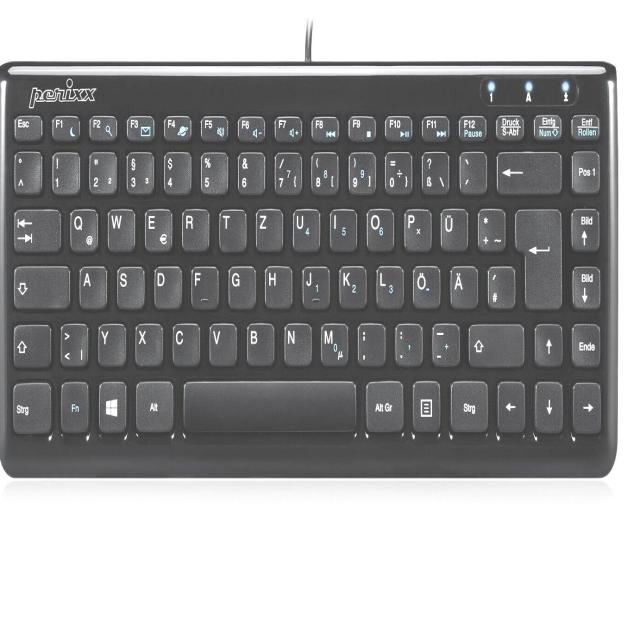0: (382, 148, 412, 194)
1: (50, 149, 80, 195)
2: (86, 148, 117, 194)
3: (123, 148, 154, 194)
4: (161, 149, 191, 194)
5: (198, 149, 227, 195)
6: (235, 149, 265, 194)
7: (272, 149, 302, 195)
8: (308, 149, 338, 195)
9: (346, 149, 376, 195)
a: (77, 262, 107, 308)
accent: (456, 147, 486, 193)
ae: (448, 262, 478, 308)
alt-left: (133, 377, 174, 432)
altgr-right: (362, 376, 403, 431)
b: (243, 319, 274, 365)
c: (170, 319, 200, 366)
caret: (12, 147, 41, 194)
comma: (355, 319, 385, 365)
d: (152, 262, 181, 308)
del: (494, 147, 562, 194)
e: (142, 205, 172, 252)
enter: (512, 204, 562, 309)
f: (188, 263, 218, 309)
g: (225, 262, 255, 308)
h: (262, 263, 292, 308)
hash: (485, 262, 515, 308)
i: (327, 206, 357, 251)
j: (299, 261, 329, 309)
k: (337, 261, 366, 308)
keyboard: (0, 54, 618, 479)
l: (374, 262, 403, 308)
less: (58, 319, 88, 368)
m: (318, 319, 347, 365)
minus: (429, 319, 459, 365)
n: (281, 320, 311, 365)
o: (363, 205, 394, 251)
oe: (409, 261, 440, 308)
p: (401, 205, 431, 251)
plus: (475, 204, 504, 252)
point: (392, 319, 422, 365)
q: (67, 205, 98, 253)
r: (179, 205, 209, 251)
s: (114, 262, 144, 309)
shift-left: (10, 320, 51, 368)
shift-lock: (10, 261, 70, 309)
shift-right: (467, 318, 524, 366)
space: (180, 375, 357, 432)
ss: (418, 148, 448, 194)
strg-left: (9, 377, 51, 434)
strg-right: (447, 376, 488, 432)
t: (217, 206, 246, 251)
tab: (10, 204, 60, 253)
u: (290, 204, 320, 252)
ue: (437, 204, 467, 251)
v: (207, 319, 236, 365)
w: (104, 204, 135, 252)
x: (133, 319, 163, 366)
y: (96, 320, 125, 367)
z: (253, 205, 282, 251)
